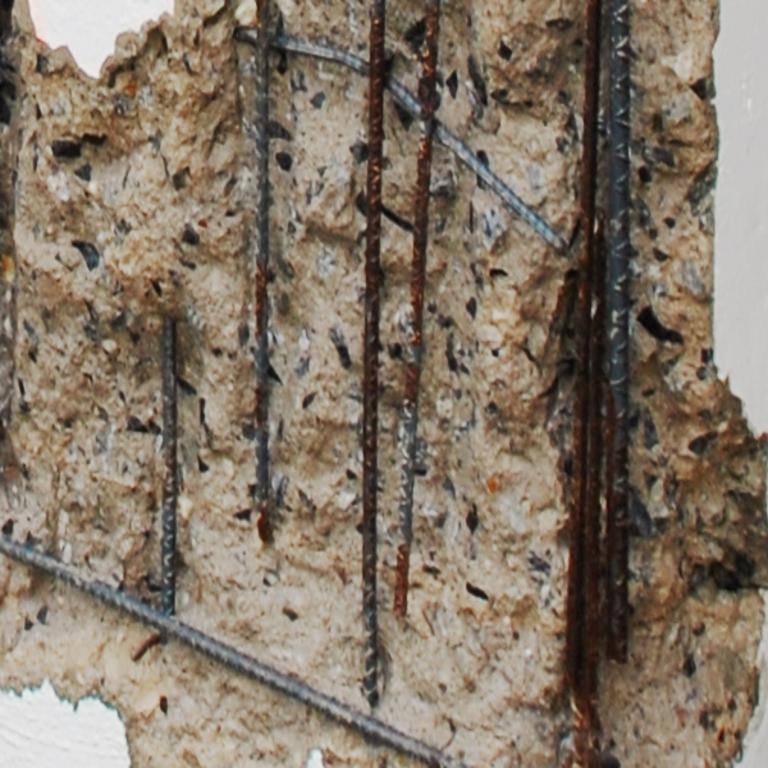exposed_rebar: (266, 0, 566, 706), (0, 316, 464, 768), (566, 0, 632, 768), (254, 0, 273, 544)
spalling: (0, 0, 768, 768)
